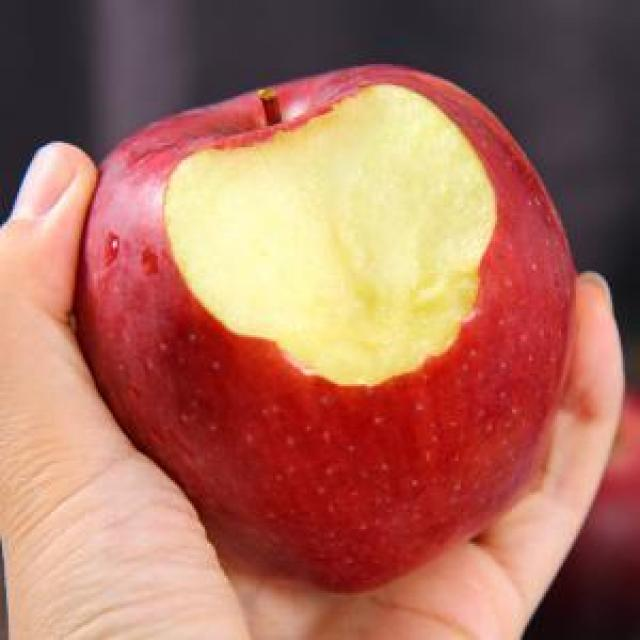Rotten: (80, 71, 574, 592)
